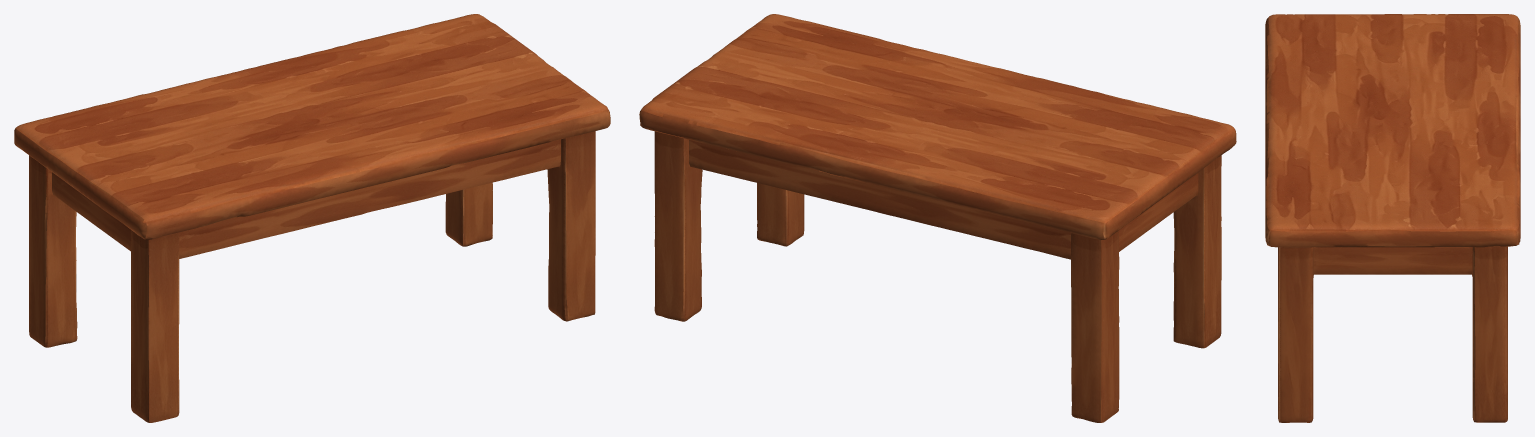
The model's file is table_dining.glb.
The picture shows the model from 3 angles, left to right: view 1: azimuth 30°, elevation 25°; view 2: azimuth 150°, elevation 25°; view 3: azimuth 270°, elevation 25°; orthographic projection. The views are drawn at different scales.
Parts seen in each view (by area): view 1: Mesh0; view 2: Mesh0; view 3: Mesh0.
Part boxes in pixels (x1,y1,x2,y2): Mesh0: (14, 14, 610, 422); Mesh0: (639, 14, 1236, 422); Mesh0: (1265, 14, 1520, 422).
Size of the model in its own units: 1.9 by 0.8182 by 0.9432.
Materials: 1 (1 with a texture image).
